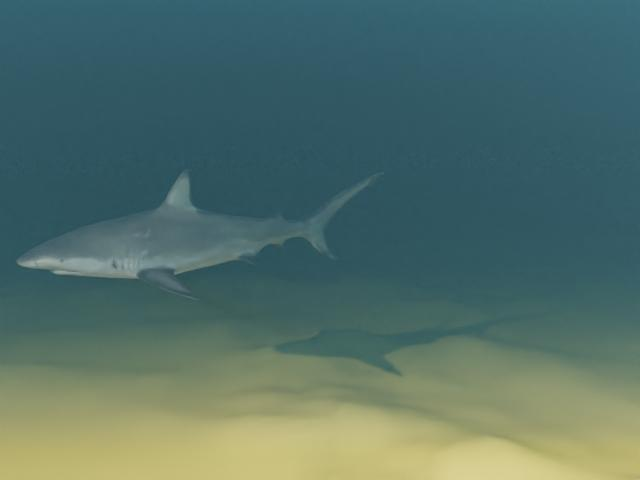Carribean Shark.001: (16, 169, 384, 300)
